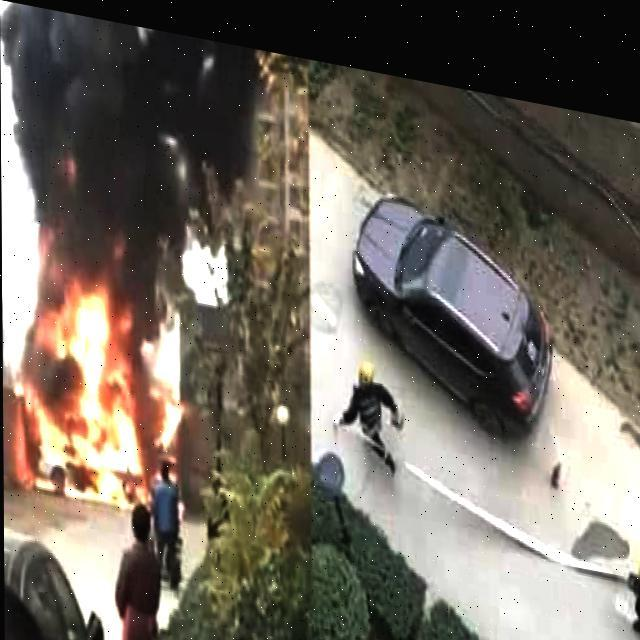Fire: (12, 221, 152, 503)
